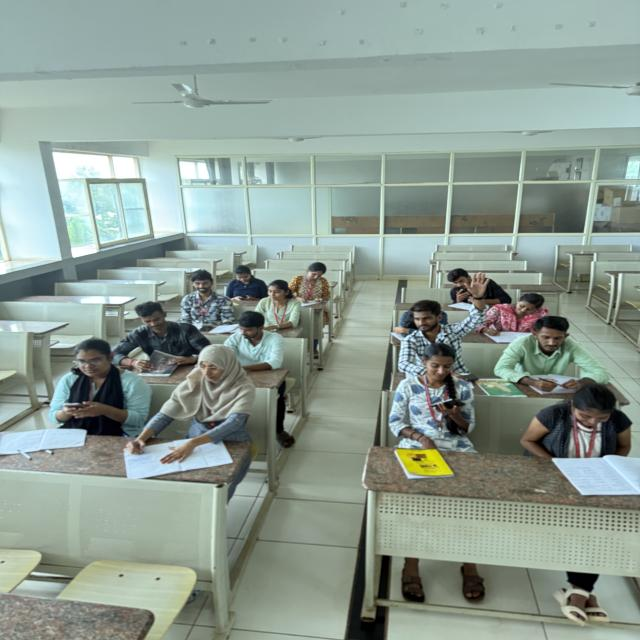Hand Rising: (402, 277, 492, 356)
Reading: (528, 376, 636, 485)
Using Phone: (46, 332, 144, 435), (398, 341, 483, 436), (437, 266, 512, 308), (224, 262, 272, 304)
Writing: (127, 341, 257, 471), (505, 310, 609, 392), (478, 292, 558, 344), (286, 258, 334, 308)
